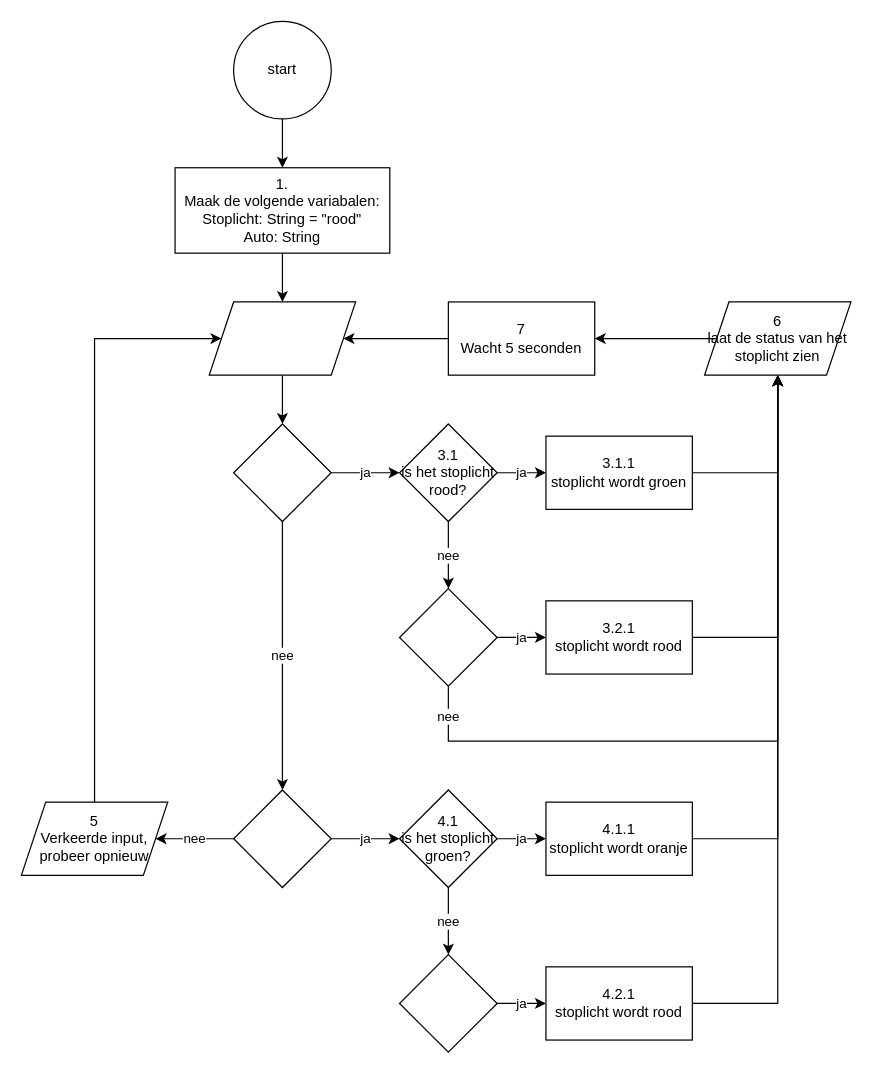
The diagram is 872 pixels wide and 1074 high, and some of its shapes have lost their labels. The centre of each missing label's shape, as x and y in pixels:
2. Staat er een auto? (ja/nee): (282,338)
3. is het antwoord ja: (281,472)
3.2 is het stoplicht oranje?: (447,636)
4. is het antwoord nee: (281,838)
4.2 is het stoplicht oranje?: (447,1002)
